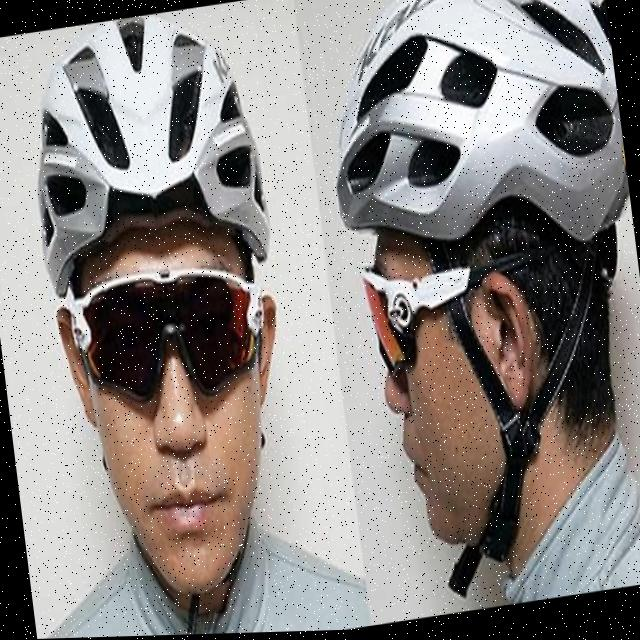illegal_helmet: (307, 0, 640, 589), (11, 0, 314, 619)
